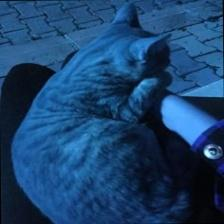kedo: (13, 1, 197, 224)
